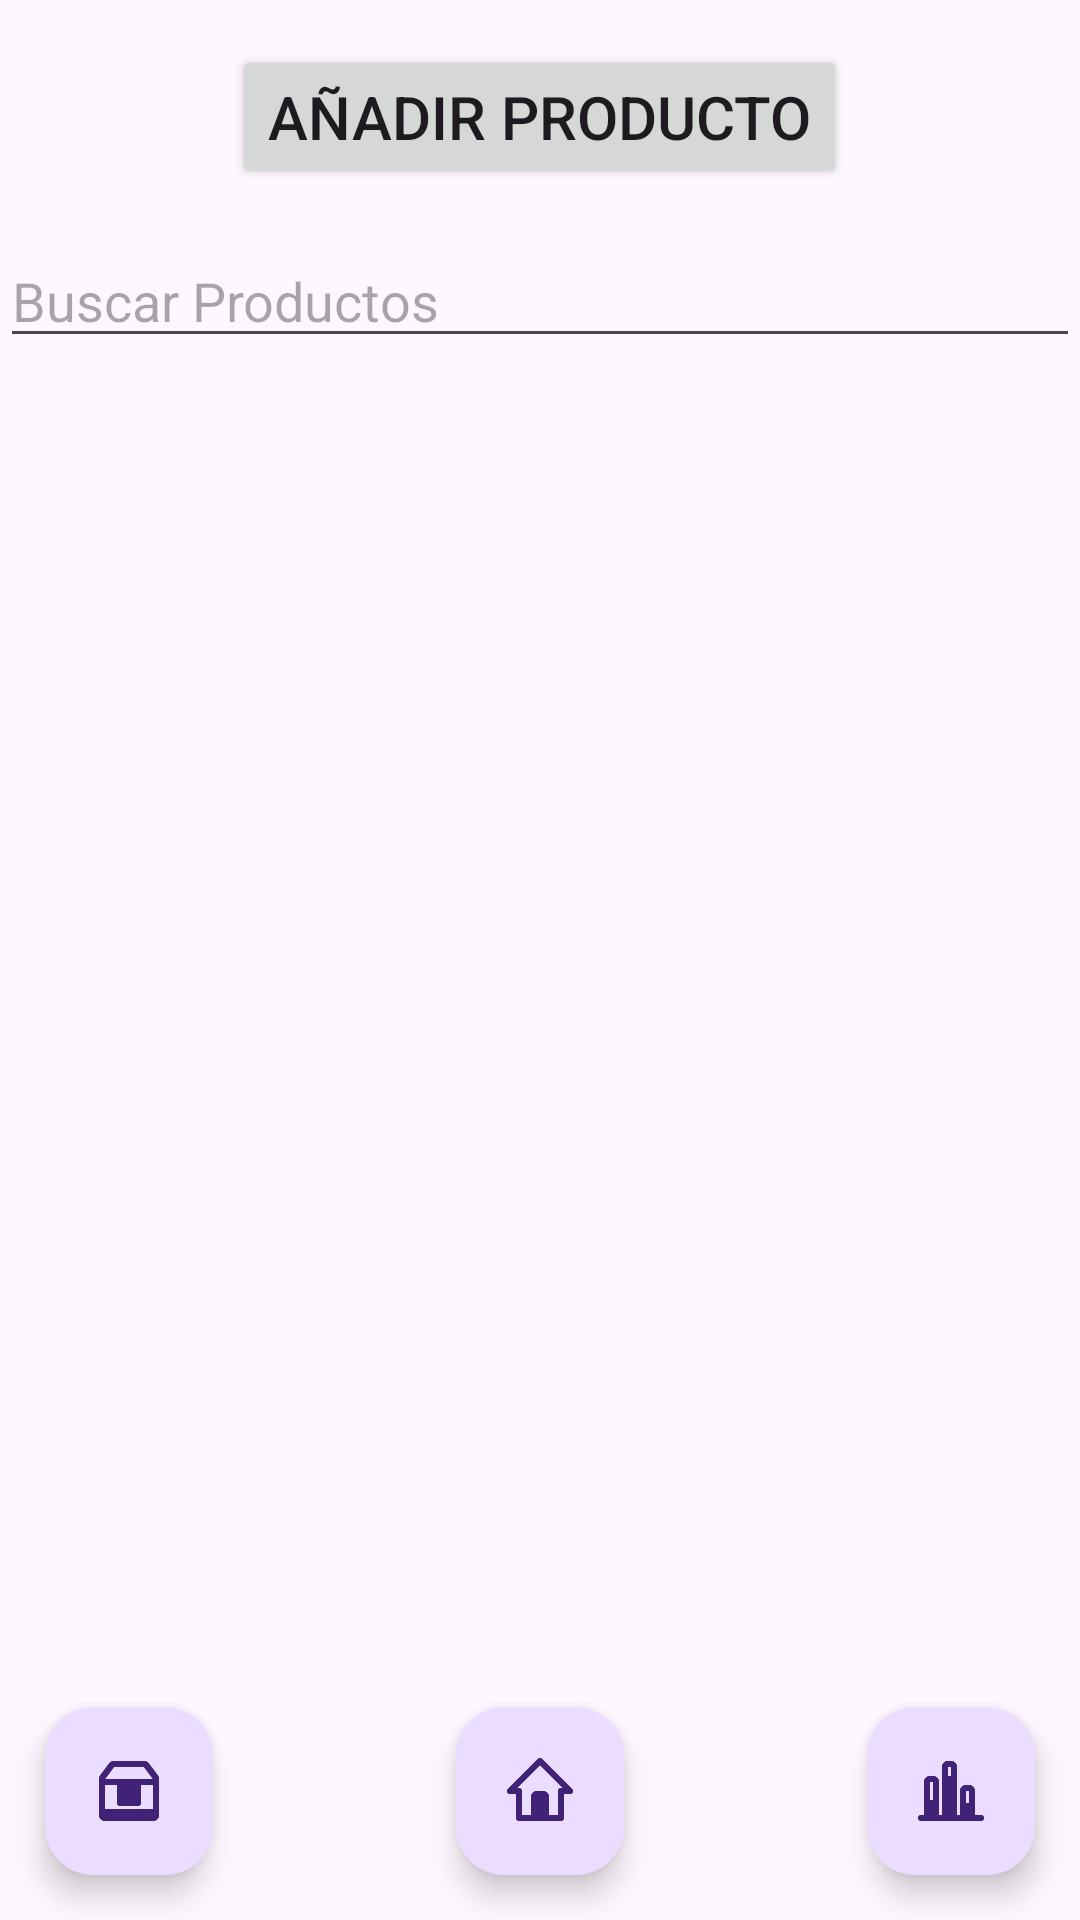

Icon click points for this 1080*1920 phone screenshot, format [x,y]:
manage bar: [951,1791]
manage box: [129,1791]
manage home: [540,1791]
